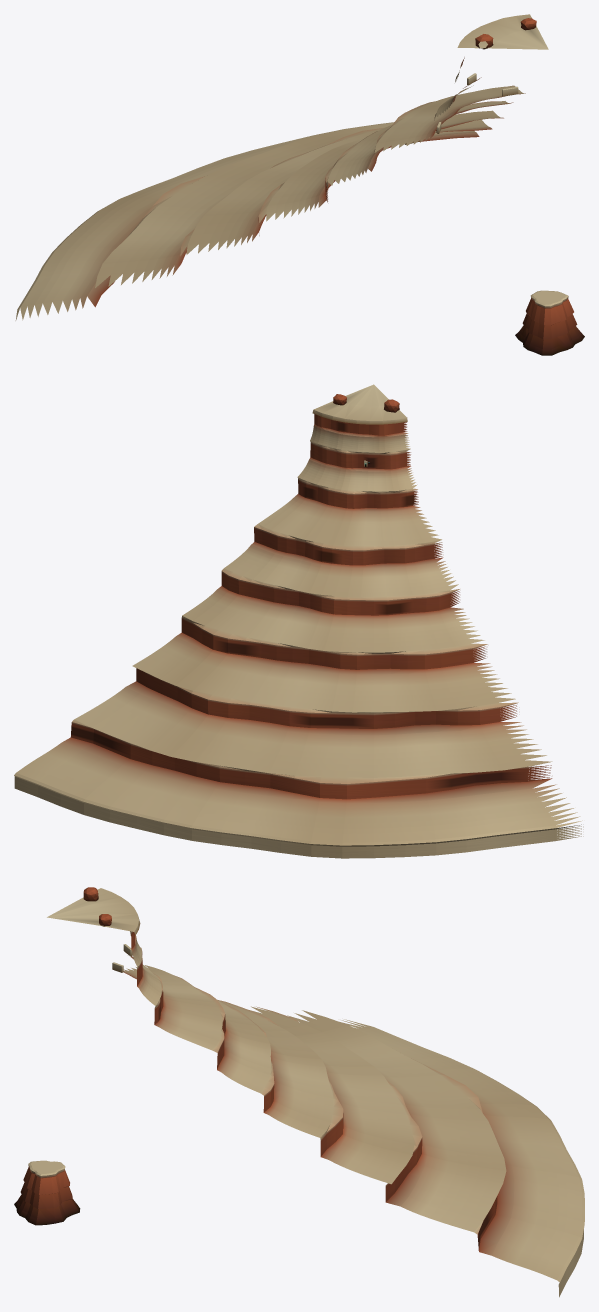
File: canyon-s1-DJnXoMEf.glb
The picture shows the model from 3 angles, top to bottom: view 1: azimuth 30°, elevation 25°; view 2: azimuth 150°, elevation 25°; view 3: azimuth 270°, elevation 25°; orthographic projection. The views are drawn at different scales.
Visible parts, largest first — view 1: sc_landmark_1, sc_mesa_1; view 2: sc_landmark_1; view 3: sc_landmark_1, sc_mesa_1.
Part boxes in pixels (x1=…): sc_landmark_1: x1=15, y1=14, x2=548, y2=320; sc_mesa_1: x1=515, y1=290, x2=584, y2=355; sc_landmark_1: x1=14, y1=384, x2=583, y2=858; sc_landmark_1: x1=47, y1=887, x2=584, y2=1297; sc_mesa_1: x1=14, y1=1160, x2=80, y2=1225.
Size of the model in its own units: 493 by 275 by 451.
